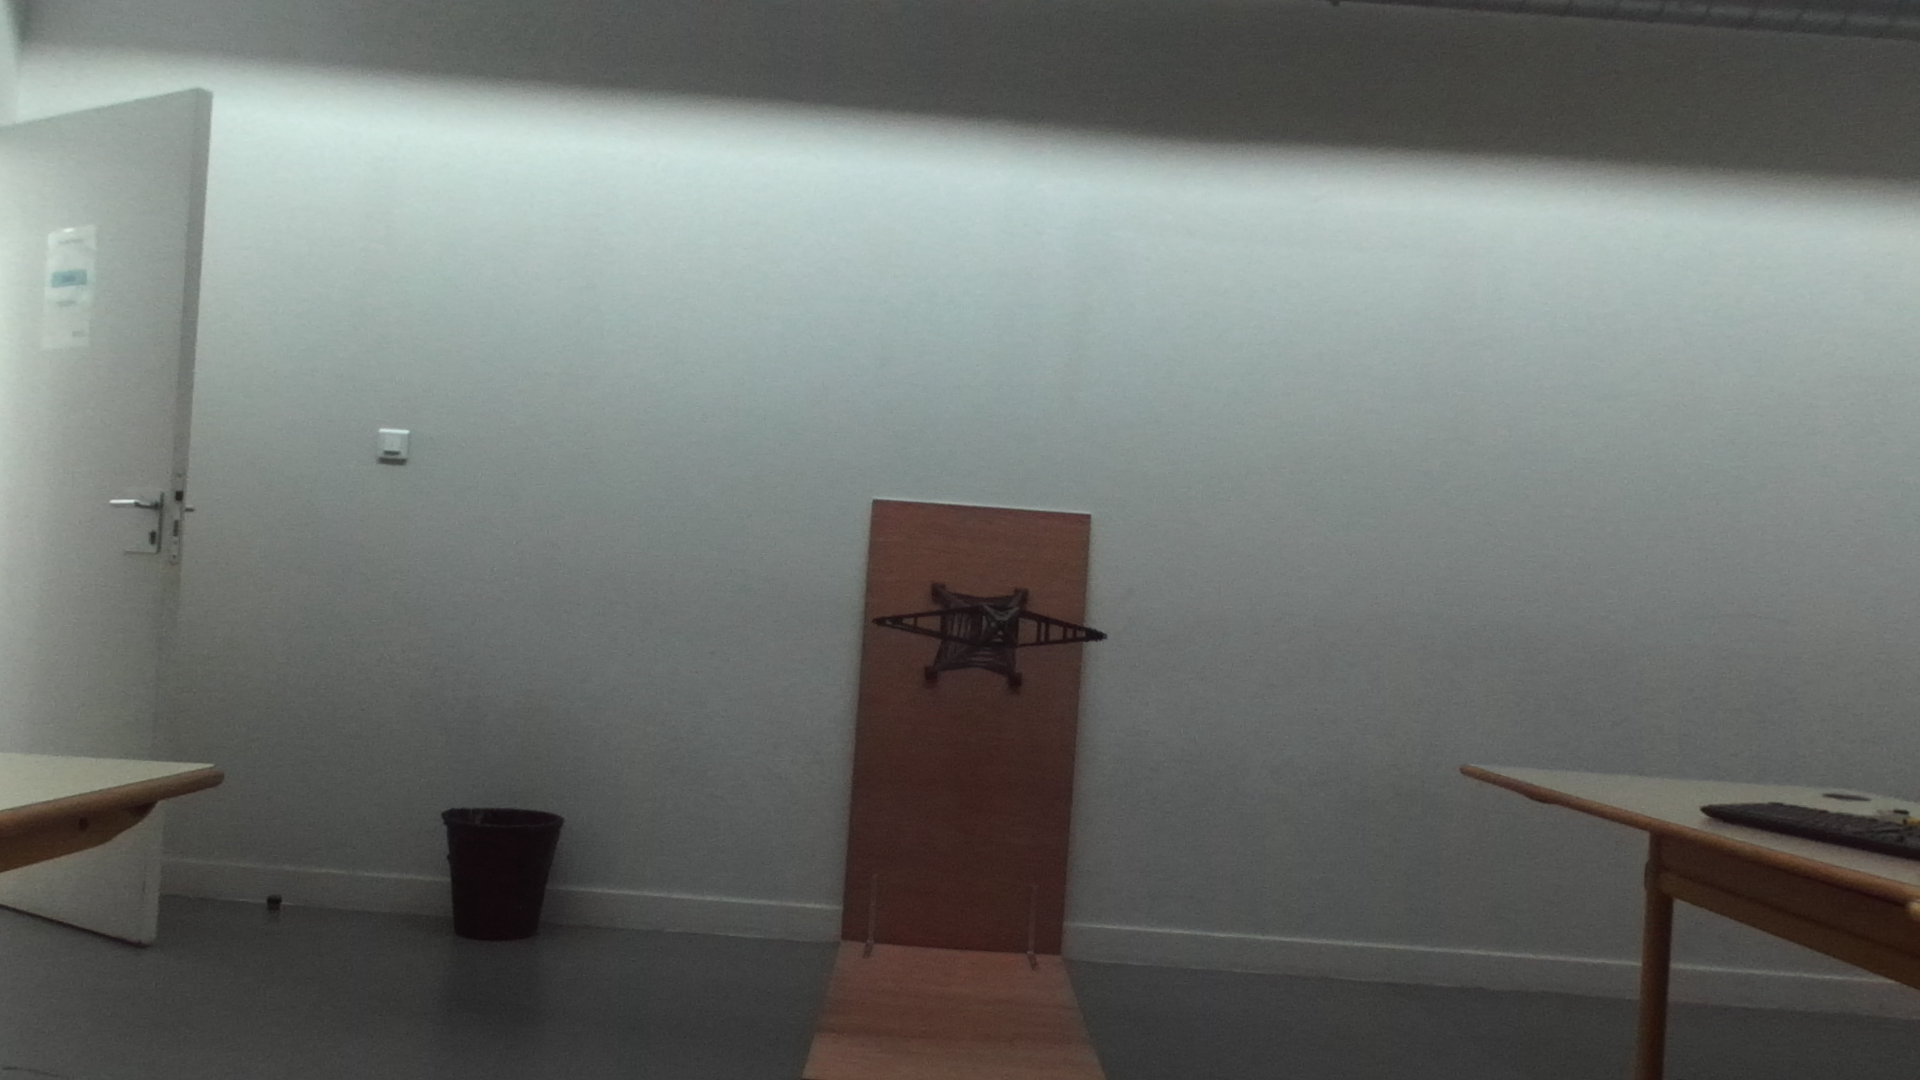pylon_phy: (884, 603, 1108, 651)
